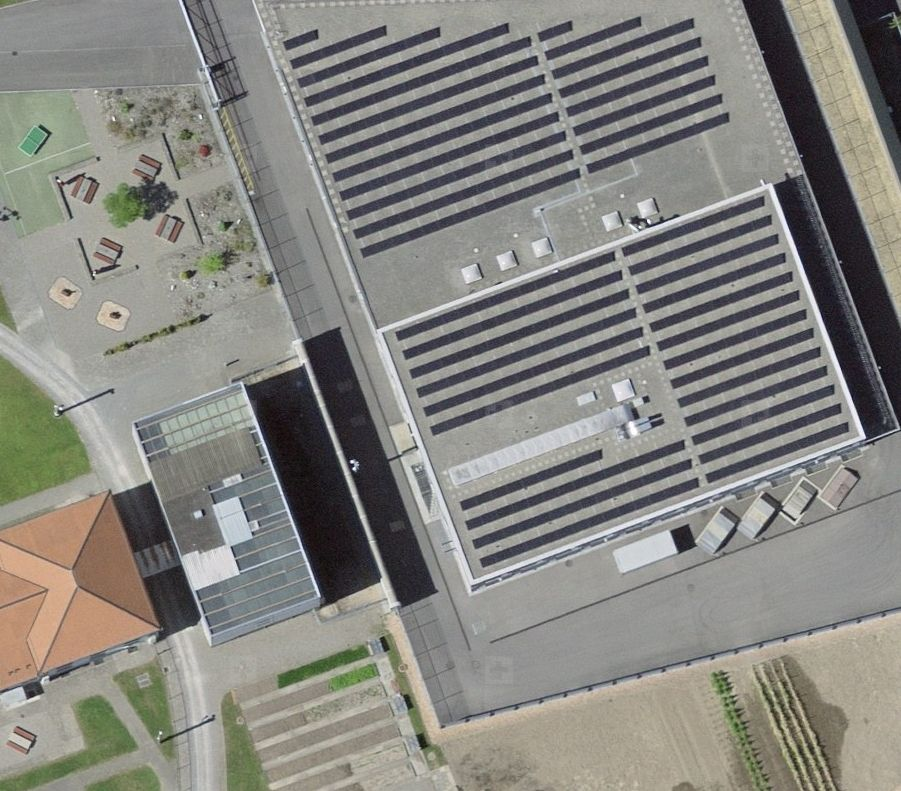solar: (280, 16, 848, 568)
